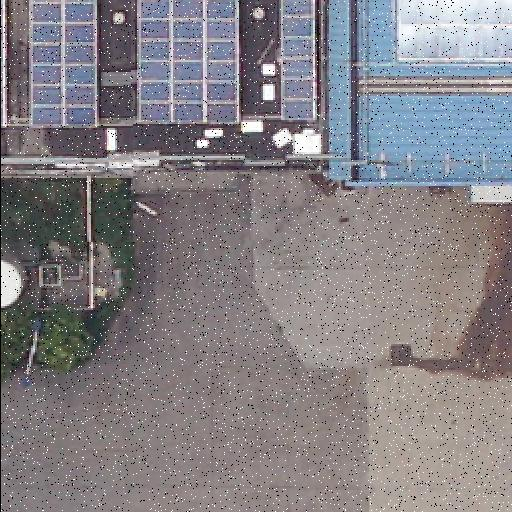solar-panel: (136, 0, 240, 124), (29, 0, 99, 124), (393, 1, 511, 63), (278, 0, 314, 122), (2, 0, 6, 124)
